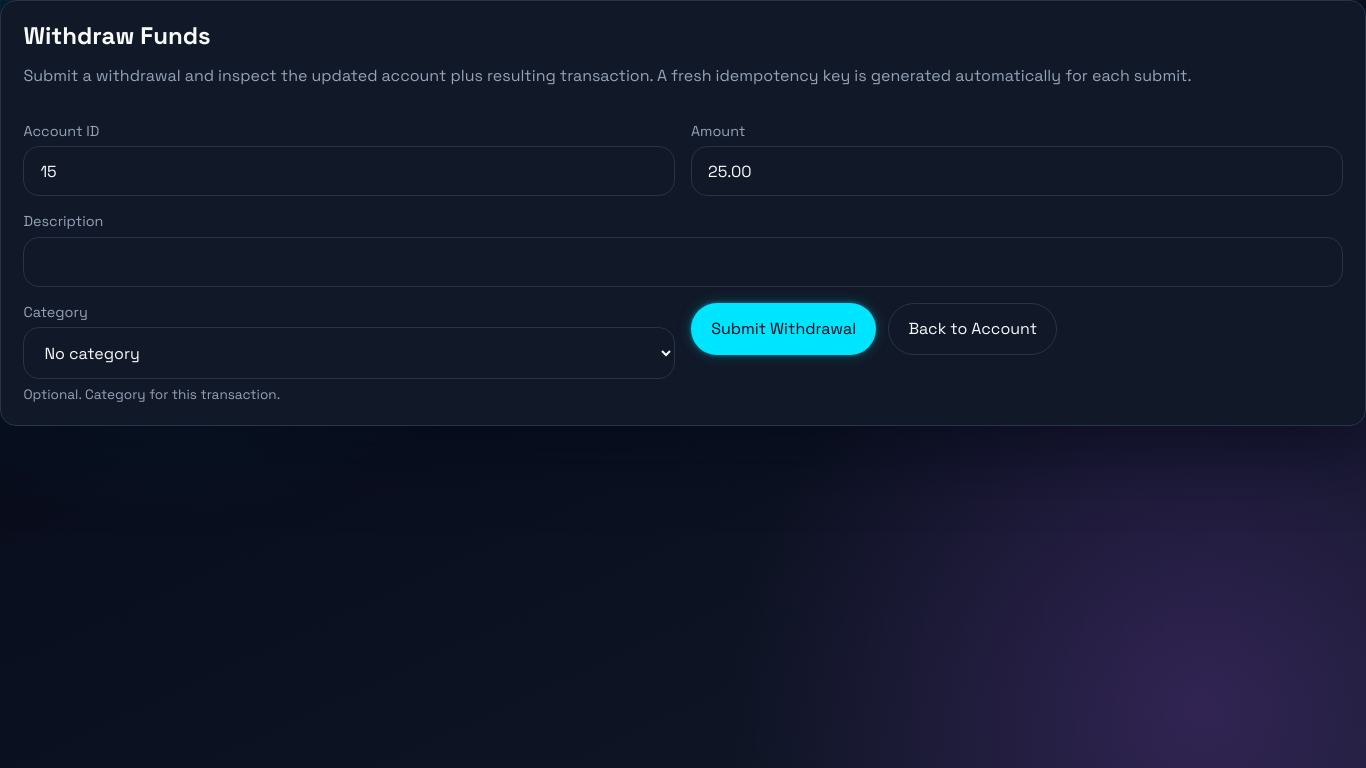
it: money movement pages › shows controlled blocked message when withdrawal is blocked on frozen account
The width and height of the screenshot is (1366, 768).
Replace the text in the field labelled "Amount" with "21.50" at (1017, 171), box [691, 146, 1343, 196]
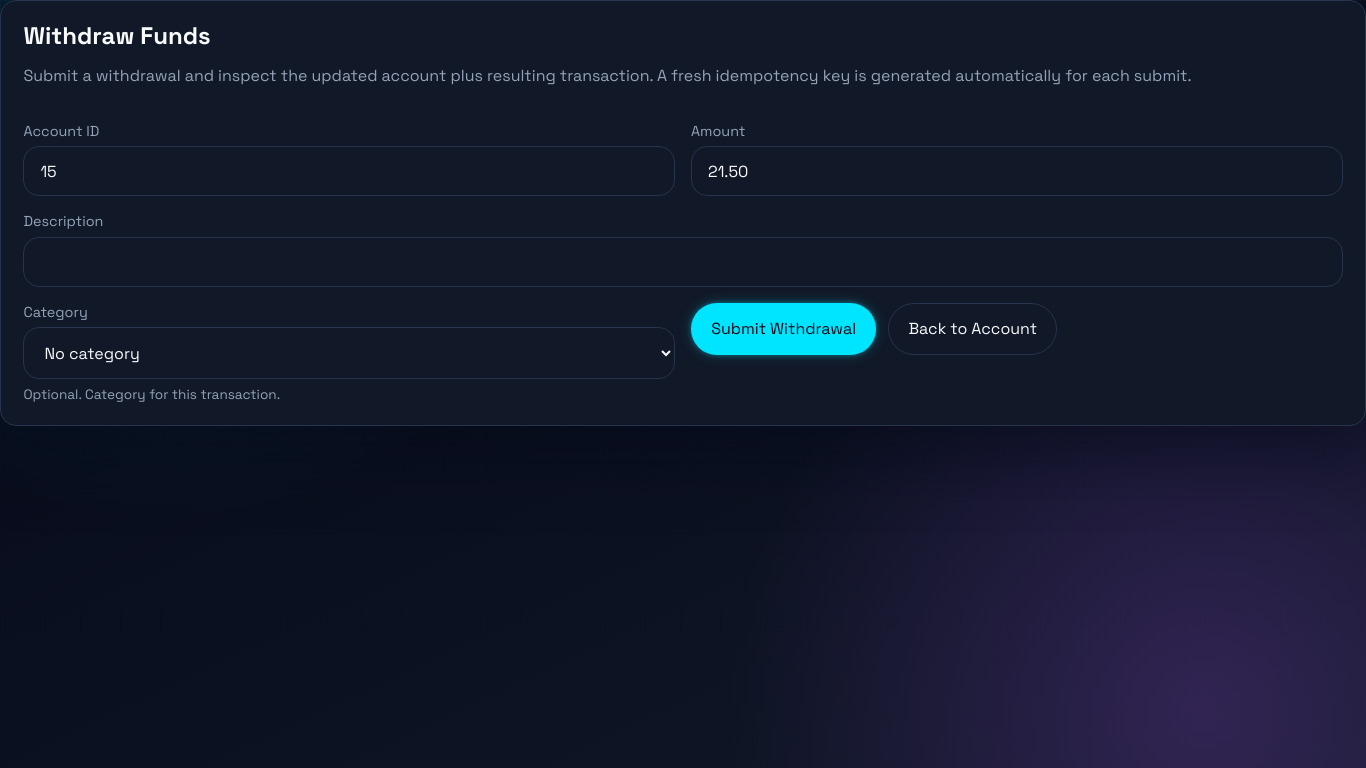
Type "Cash out" into the field labelled "Description" at (683, 262), box [23, 236, 1343, 287]
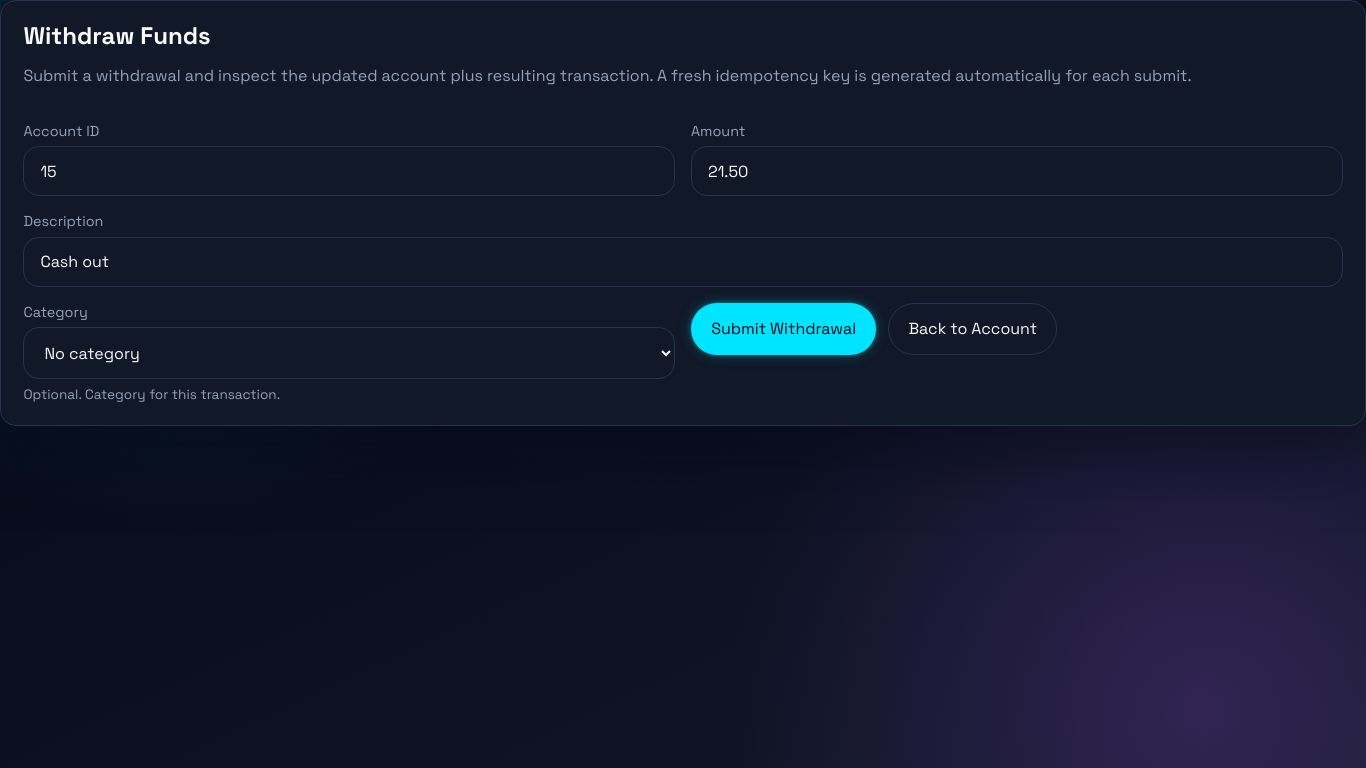
Click the button "Submit Withdrawal" at (784, 329), box [691, 303, 876, 354]
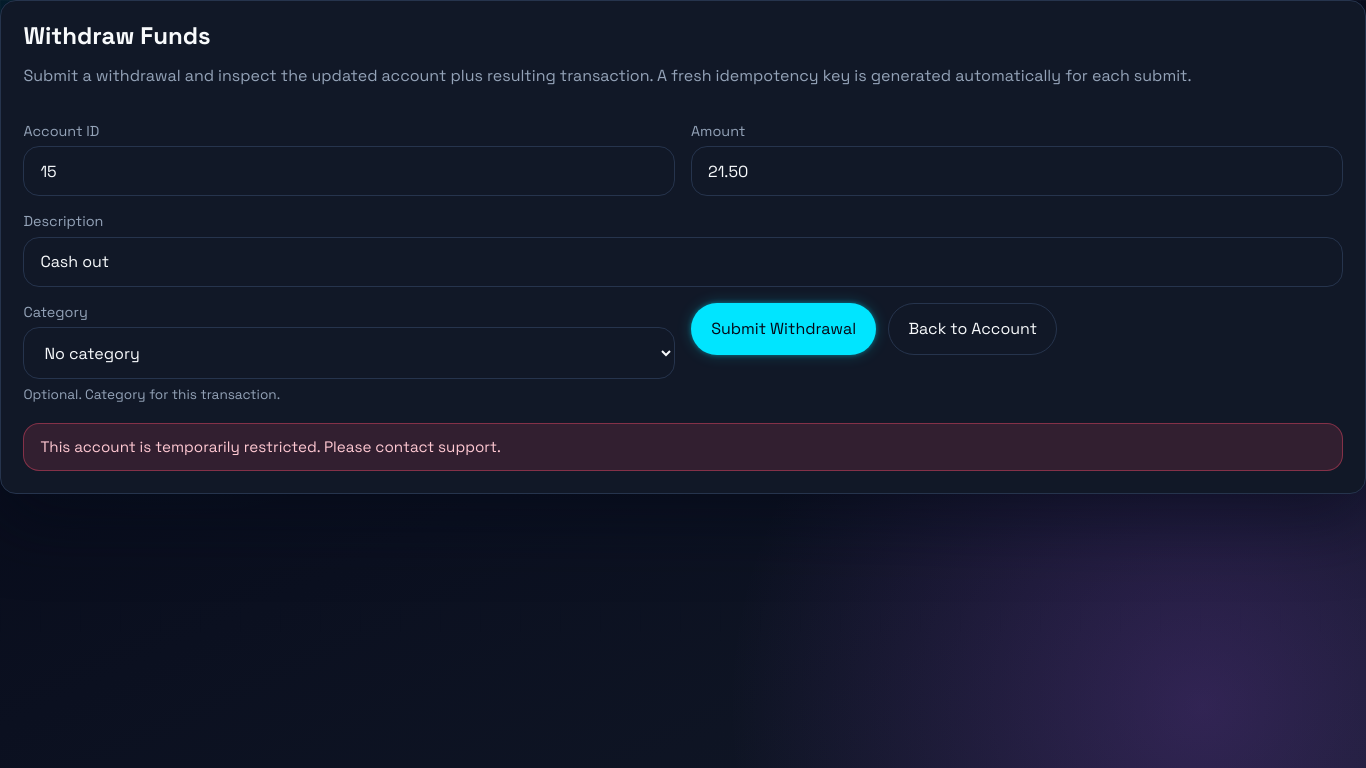
Expected: the text "This account is temporarily restricted. Please contact support." is shown, [23, 423, 1343, 471]
